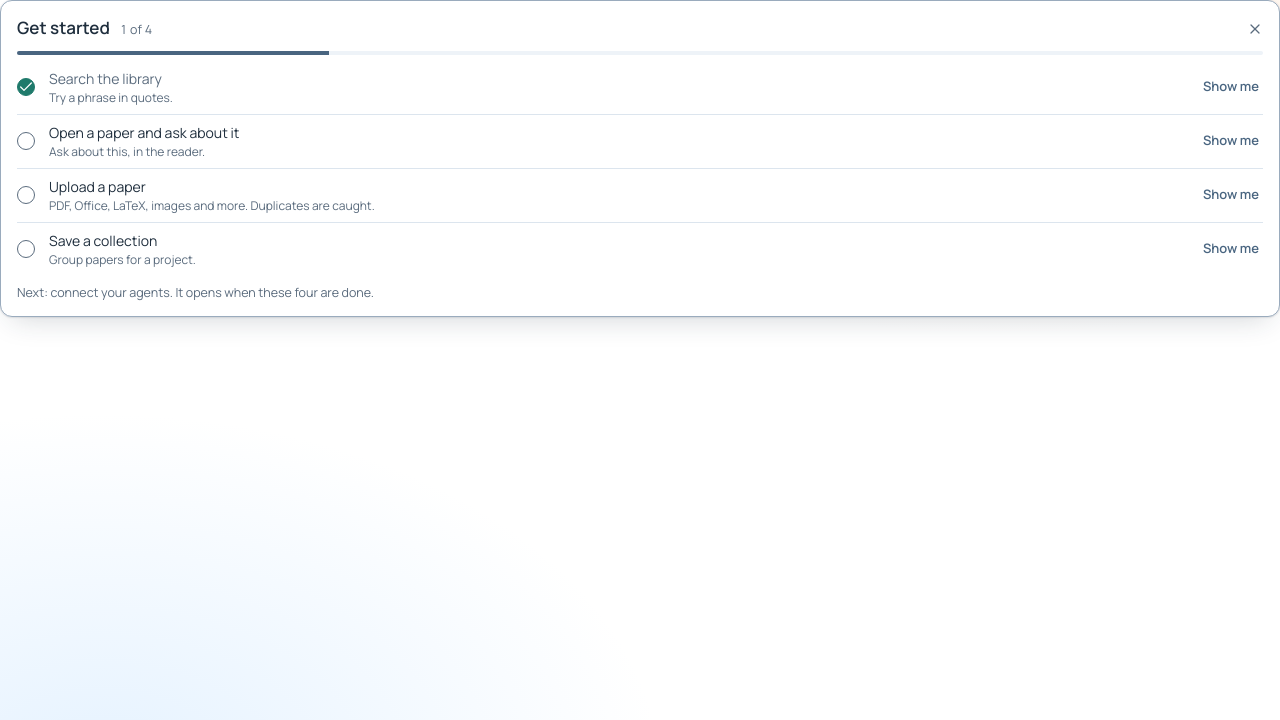
GetStarted › hide sends dismissed and removes the card
Click the button named "Hide Get started. Reopen it from Help." at (1255, 29), box [1247,21,1263,37]
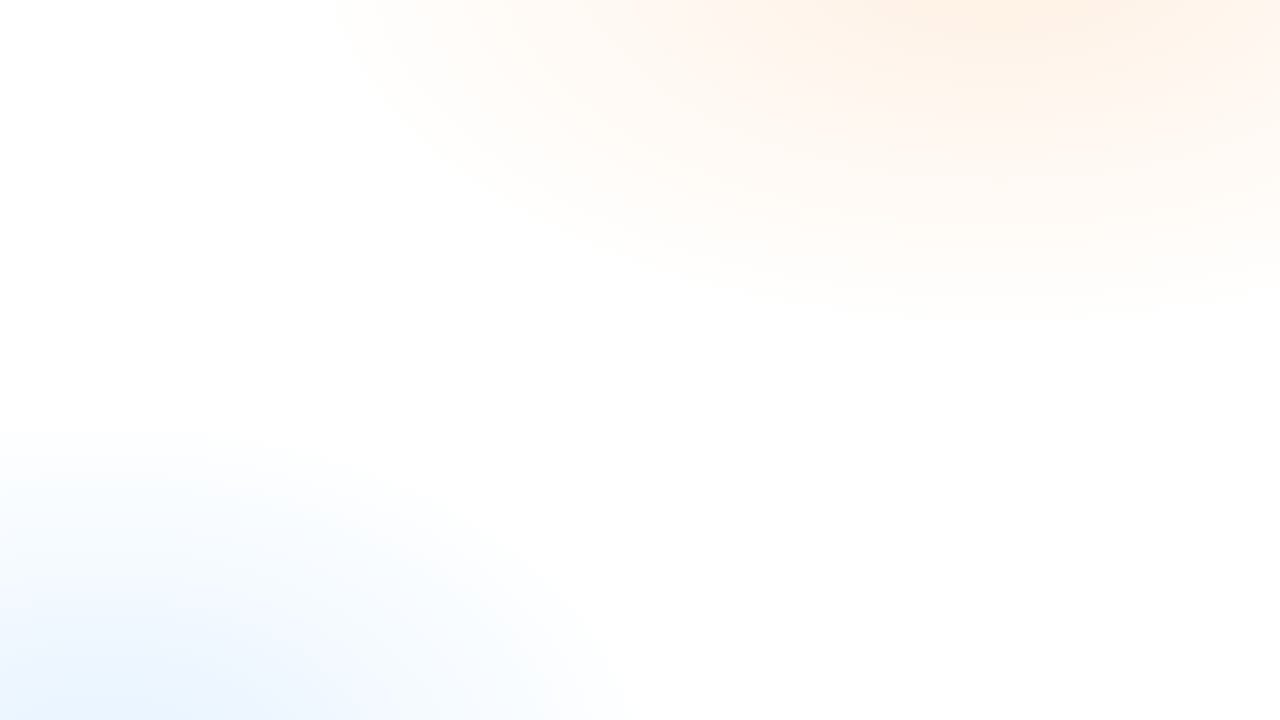
expect the heading "Get started" is gone: met
